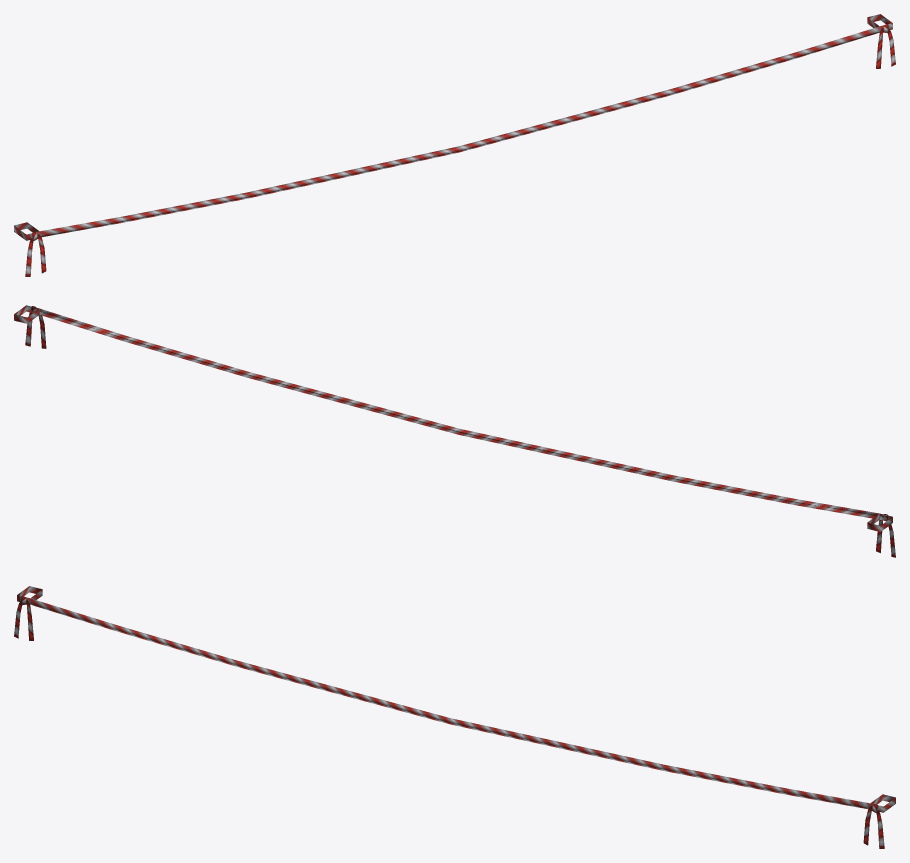
Rendered from jsf_2P_String_s02_01.fbx.
The picture shows the model from 3 angles, top to bottom: view 1: azimuth 30°, elevation 25°; view 2: azimuth 150°, elevation 25°; view 3: azimuth 330°, elevation 25°; orthographic projection.
Visible parts, largest first — view 1: jsf_2P_String_s02_01; view 2: jsf_2P_String_s02_01; view 3: jsf_2P_String_s02_01.
Boxes of the visible parts, box(x1,y1,x2,y2) form: jsf_2P_String_s02_01: box(14, 14, 895, 276); jsf_2P_String_s02_01: box(14, 305, 895, 557); jsf_2P_String_s02_01: box(14, 586, 895, 848).
Size of the model in its own units: 211 by 9.85 by 5.92.
